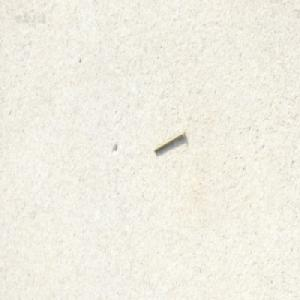Bolt: (152, 127, 184, 152)
